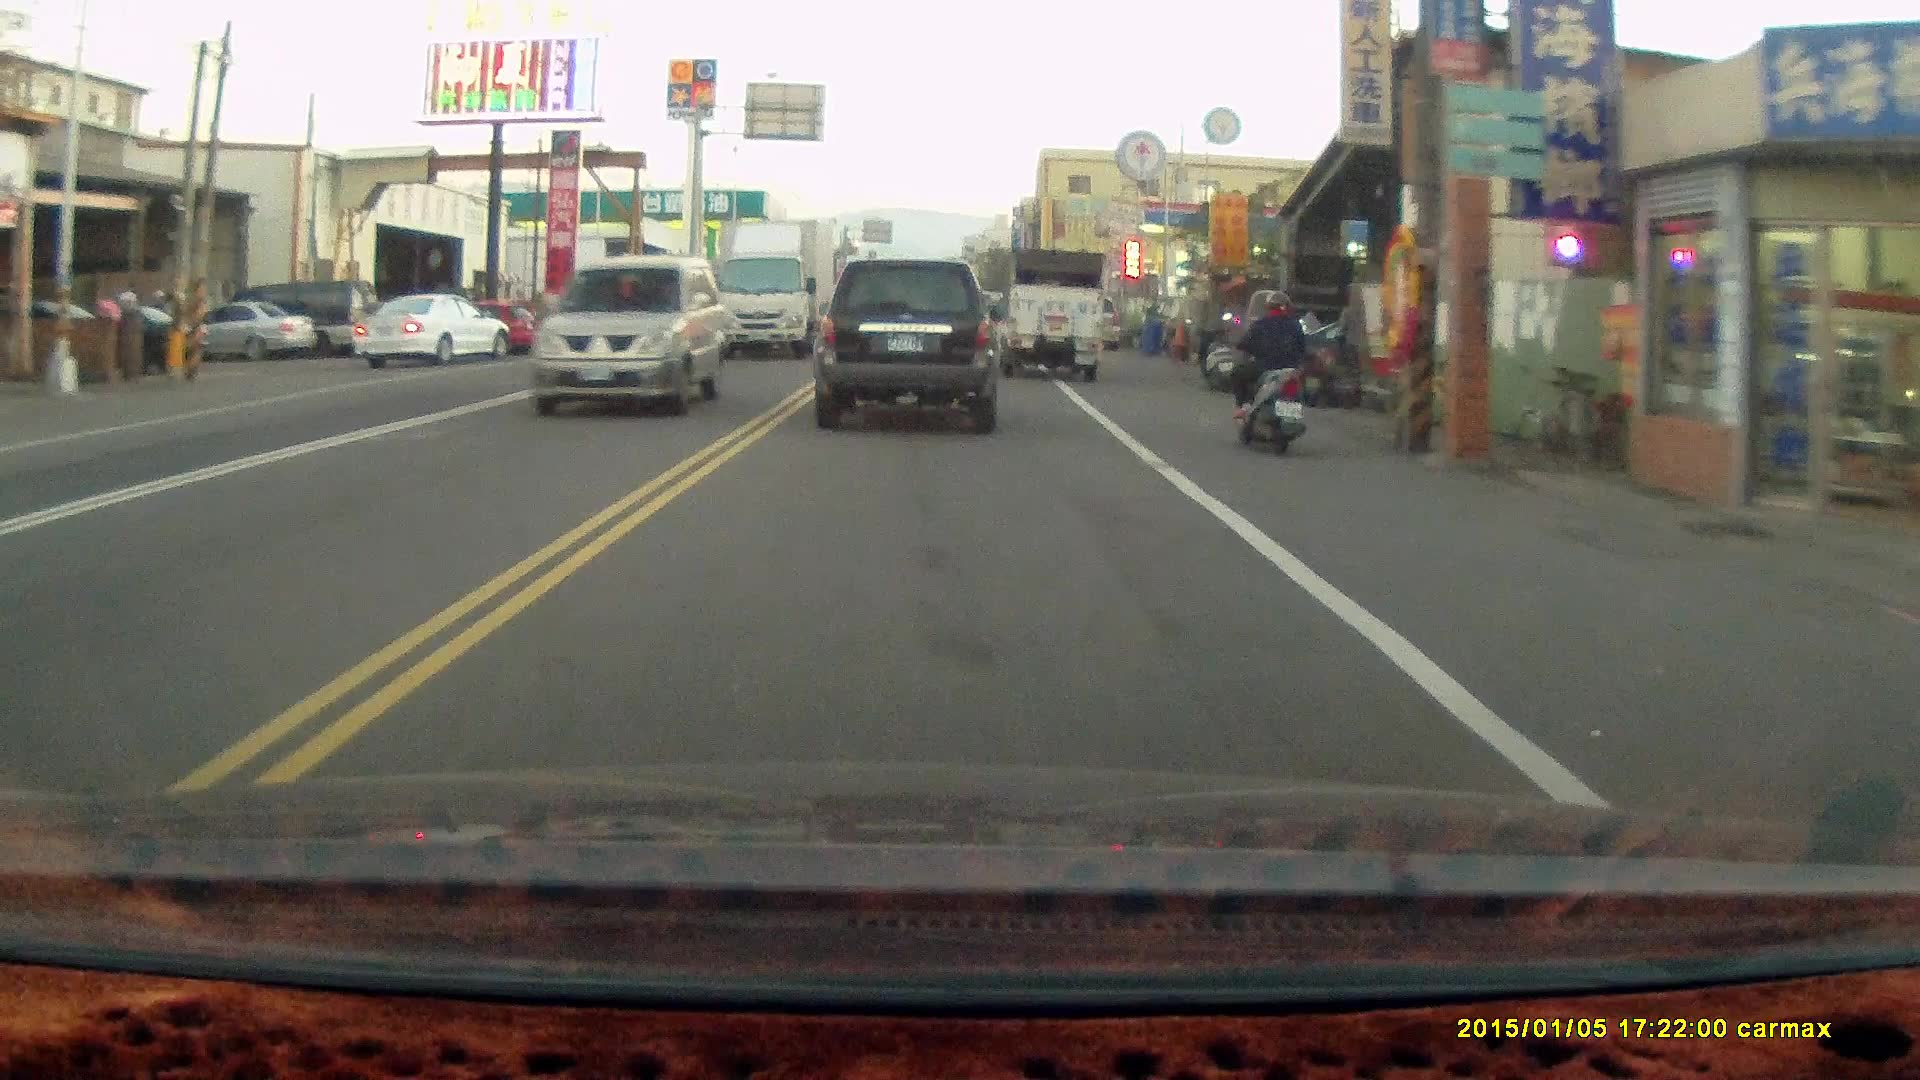rider: (1216, 290, 1310, 460)
vehicle: (814, 256, 999, 433), (534, 257, 724, 417), (717, 224, 832, 367), (993, 246, 1104, 383), (352, 297, 512, 374), (191, 300, 318, 364)
